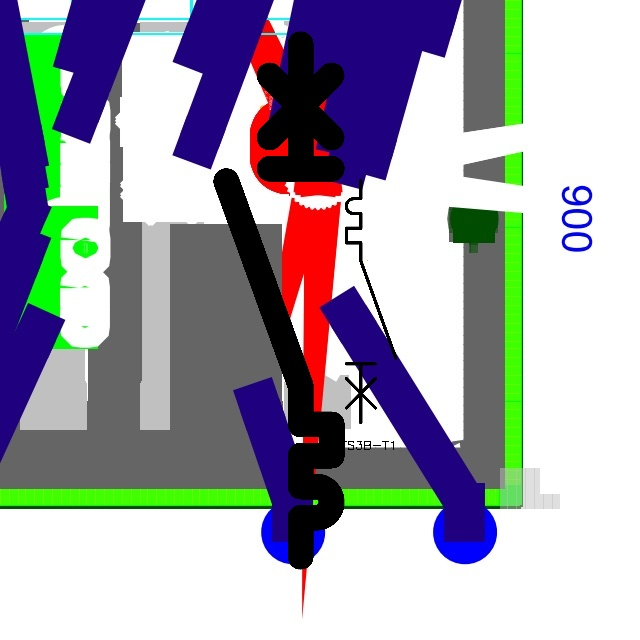interruptor_termomagnetico: (213, 31, 345, 570), (340, 174, 402, 429)
